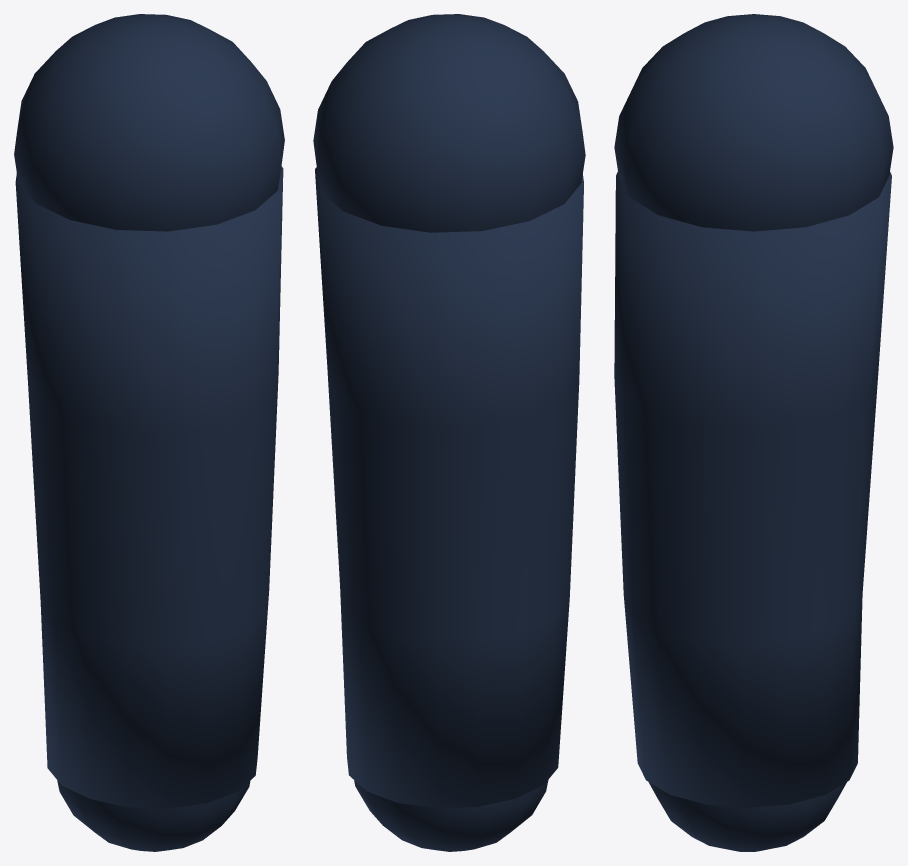
File: coder_thigh_l.glb
3 views of the same model, side by side, from view 1: azimuth 30°, elevation 25°; view 2: azimuth 150°, elevation 25°; view 3: azimuth 270°, elevation 25° (orthographic).
Parts seen in each view (by area): view 1: CoderPart; view 2: CoderPart; view 3: CoderPart.
Boxes of the visible parts, x1,y1,x2,y2 form: CoderPart: (14, 14, 284, 851); CoderPart: (313, 14, 585, 851); CoderPart: (614, 14, 893, 851).
Size of the model in its own units: 0.176 by 0.581 by 0.18.
